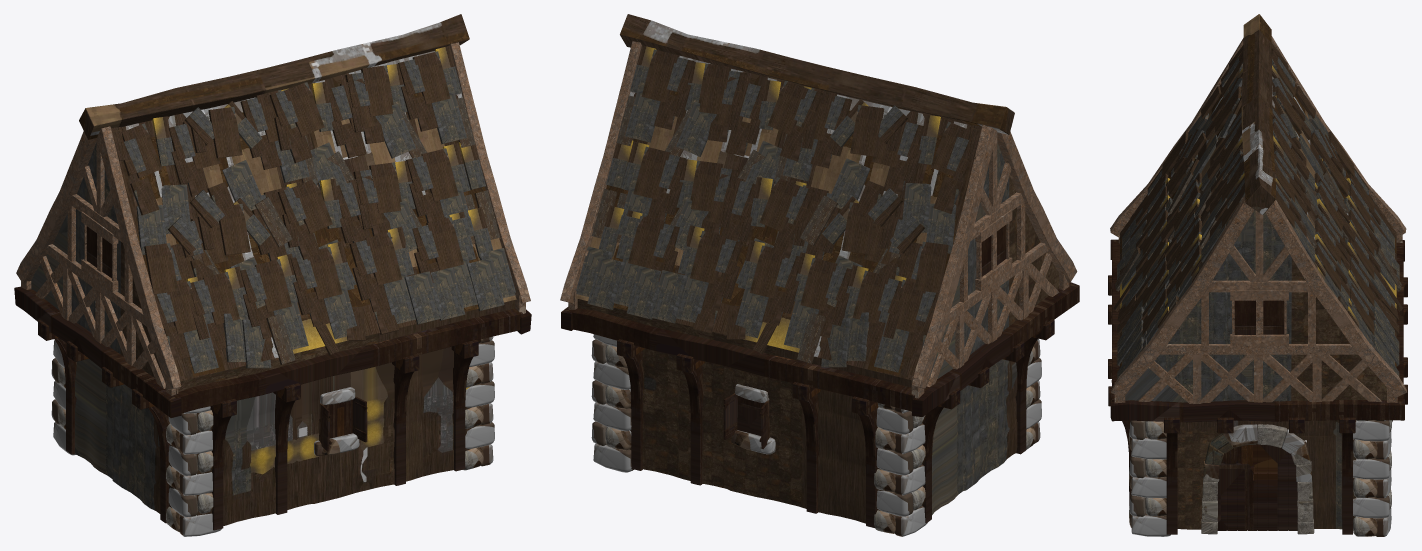
The model's file is house 4.fbx.
3 renders of one model, left to right at view 1: azimuth 30°, elevation 25°; view 2: azimuth 150°, elevation 25°; view 3: azimuth 270°, elevation 25°, orthographic. The views are drawn at different scales.
Visible parts, largest first — view 1: defaultMaterial.002, defaultMaterial, defaultMaterial.004, defaultMaterial.003, defaultMaterial.001; view 2: defaultMaterial.002, defaultMaterial, defaultMaterial.004, defaultMaterial.003, defaultMaterial.001; view 3: defaultMaterial.002, defaultMaterial.003, defaultMaterial.004, defaultMaterial, defaultMaterial.001.
Boxes of the visible parts, x1,y1,x2,y2 form: defaultMaterial.002: (79,14,516,381); defaultMaterial: (31,142,515,525); defaultMaterial.004: (14,226,531,530); defaultMaterial.003: (16,42,530,395); defaultMaterial.001: (51,336,494,536); defaultMaterial.002: (575,14,1014,380); defaultMaterial: (577,142,1058,523); defaultMaterial.004: (561,225,1079,528); defaultMaterial.003: (560,41,1077,398); defaultMaterial.001: (591,334,1041,536); defaultMaterial.002: (1114,14,1402,378); defaultMaterial.003: (1110,36,1407,403); defaultMaterial.004: (1108,239,1407,534); defaultMaterial: (1118,210,1386,529); defaultMaterial.001: (1129,420,1391,536).
Bounding box in the file's own units: 697 × 692 × 511.
